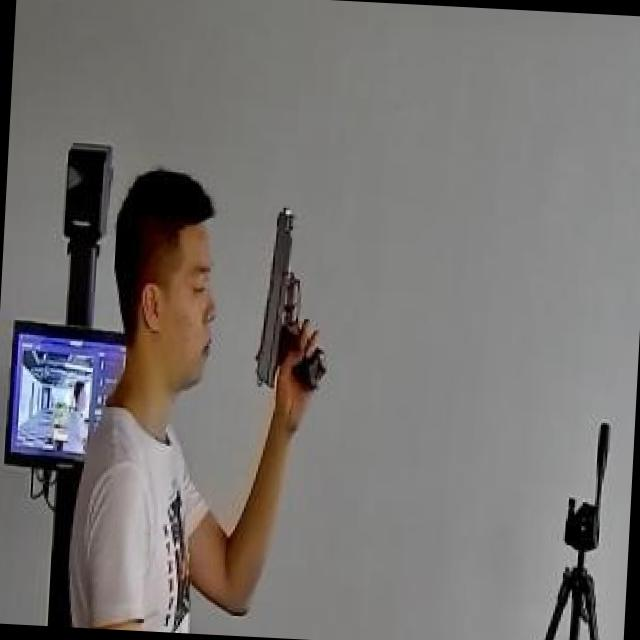Guns: (246, 193, 340, 410)
